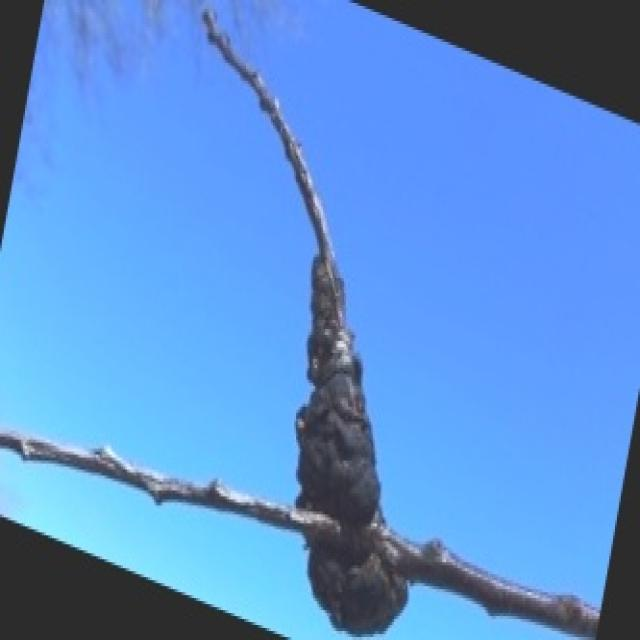Black_knot: (290, 248, 410, 637)
